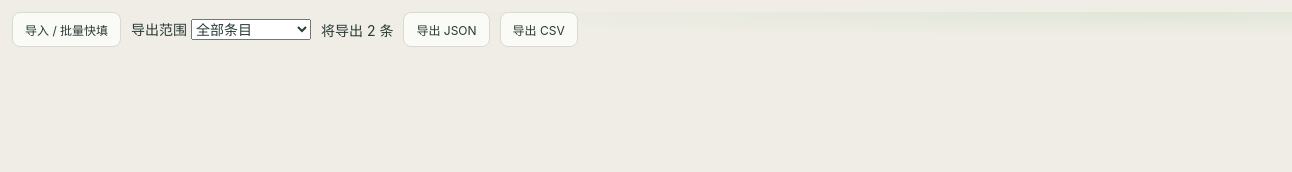
Scenario: 导出提示包含条数和范围，默认导出全部，切类别后只导出该类别
Expected: the dropdown named "条目导出范围" shows "全部条目", [191,19,311,40]
Click the button "导出 JSON" at (446, 30), box [403,12,490,47]
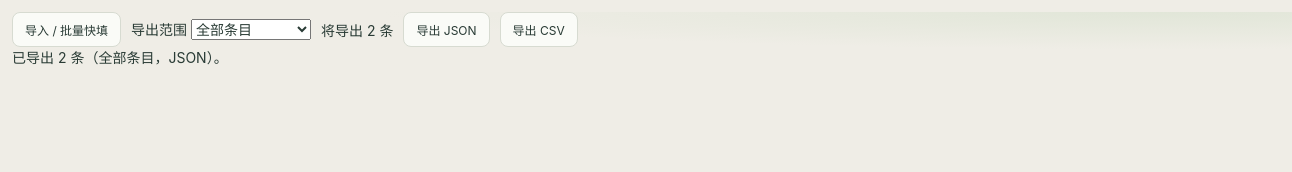
Expected: the text "已导出 2 条（全部条目，JSON）。" is shown, [12,49,228,66]
Select "当前类别：技能" in the dropdown named "条目导出范围" at (251, 30), box [191,19,311,40]
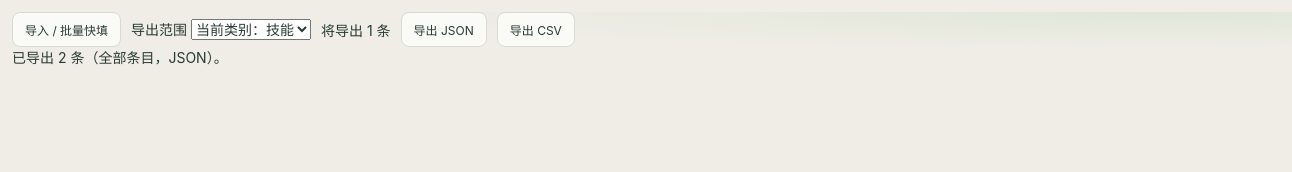
Click the button "导出 CSV" at (536, 30), box [497,12,575,47]
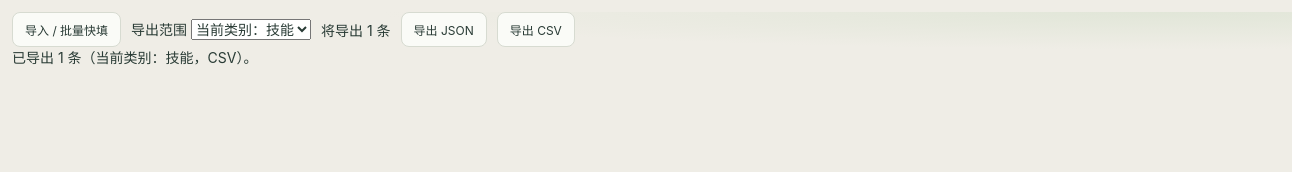
Expected: the text "已导出 1 条（当前类别：技能，CSV）。" is shown, [12,49,257,66]
